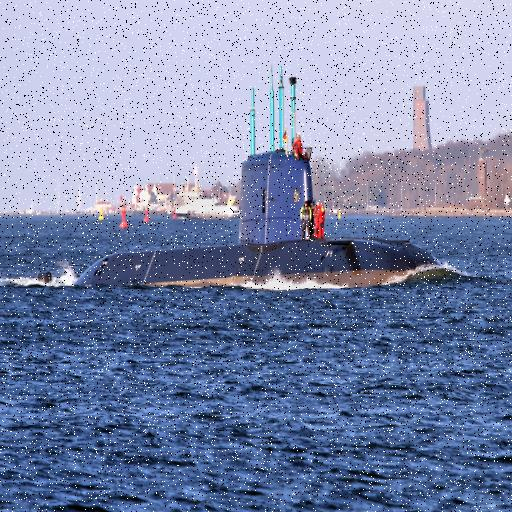submarine: (39, 61, 438, 289)
